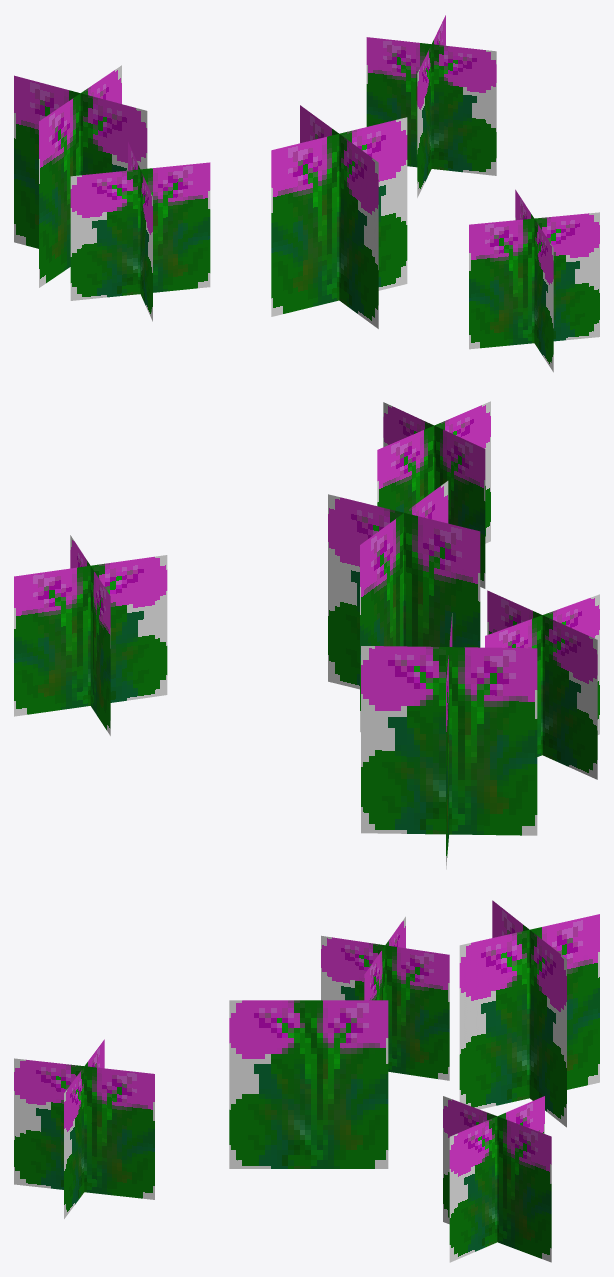
Rendered from flowers03.obj.
The picture shows the model from 3 angles, top to bottom: view 1: azimuth 30°, elevation 25°; view 2: azimuth 150°, elevation 25°; view 3: azimuth 270°, elevation 25°; orthographic projection. The views are drawn at different scales.
Visible parts, largest first — view 1: Duplicate03, Box01, Duplicate05, Duplicate02, Duplicate04, Duplicate01; view 2: Duplicate02, Duplicate04, Box01, Duplicate03, Duplicate05, Duplicate01; view 3: Duplicate01, Duplicate02, Duplicate05, Duplicate04, Duplicate03.
Boxes of the visible parts, <box> form: Duplicate03: <box>70,142,210,321</box>; Box01: <box>271,117,407,316</box>; Duplicate05: <box>469,189,599,372</box>; Duplicate02: <box>14,65,147,287</box>; Duplicate04: <box>366,15,496,197</box>; Duplicate01: <box>300,105,378,328</box>; Duplicate02: <box>361,613,537,869</box>; Duplicate04: <box>14,535,167,735</box>; Box01: <box>328,494,480,689</box>; Duplicate03: <box>485,590,599,779</box>; Duplicate05: <box>377,401,490,588</box>; Duplicate01: <box>360,481,448,732</box>; Duplicate01: <box>229,1000,388,1168</box>; Duplicate02: <box>459,900,599,1127</box>; Duplicate05: <box>14,1039,154,1218</box>; Duplicate04: <box>443,1096,551,1262</box>; Duplicate03: <box>321,916,449,1080</box>.
Bounding box in the file's own units: 50.67 × 18.36 × 56.81.
